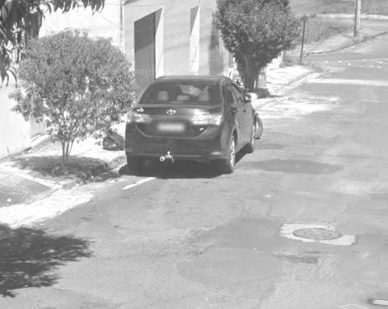car: (123, 71, 257, 180)
